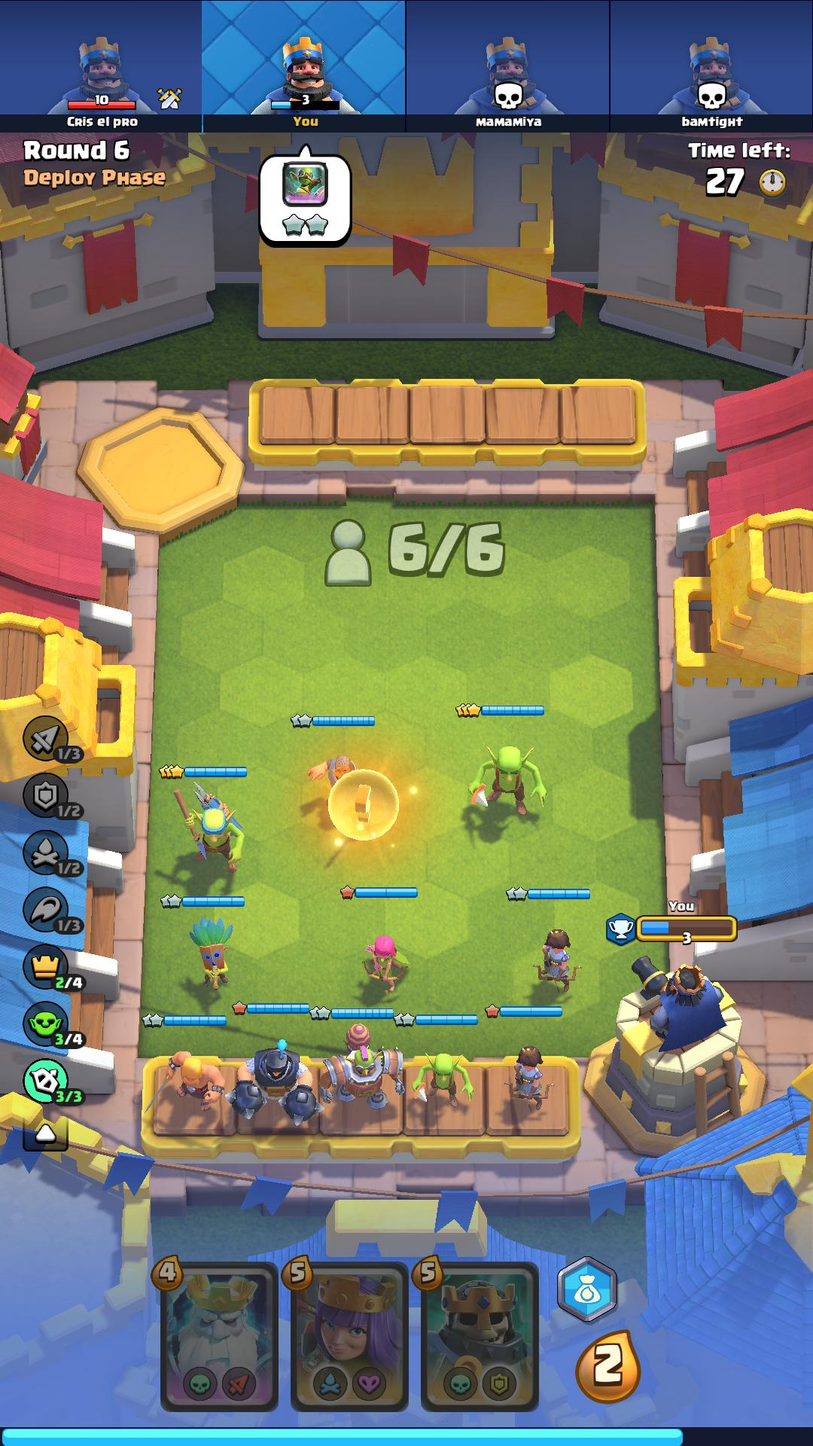archer: (352, 925, 417, 998)
barbarian: (152, 1041, 231, 1114)
dart: (186, 910, 244, 992)
goblin: (461, 736, 552, 825), (414, 1048, 476, 1116)
hand-ghost: (162, 1265, 275, 1411)
hand-king: (424, 1264, 537, 1405)
hand-queen: (291, 1263, 407, 1410)
machine: (318, 1022, 407, 1123)
mega: (227, 1034, 324, 1129)
orb: (327, 769, 400, 843)
princess: (529, 916, 585, 999), (495, 1039, 558, 1112)
spear: (167, 780, 253, 866)
